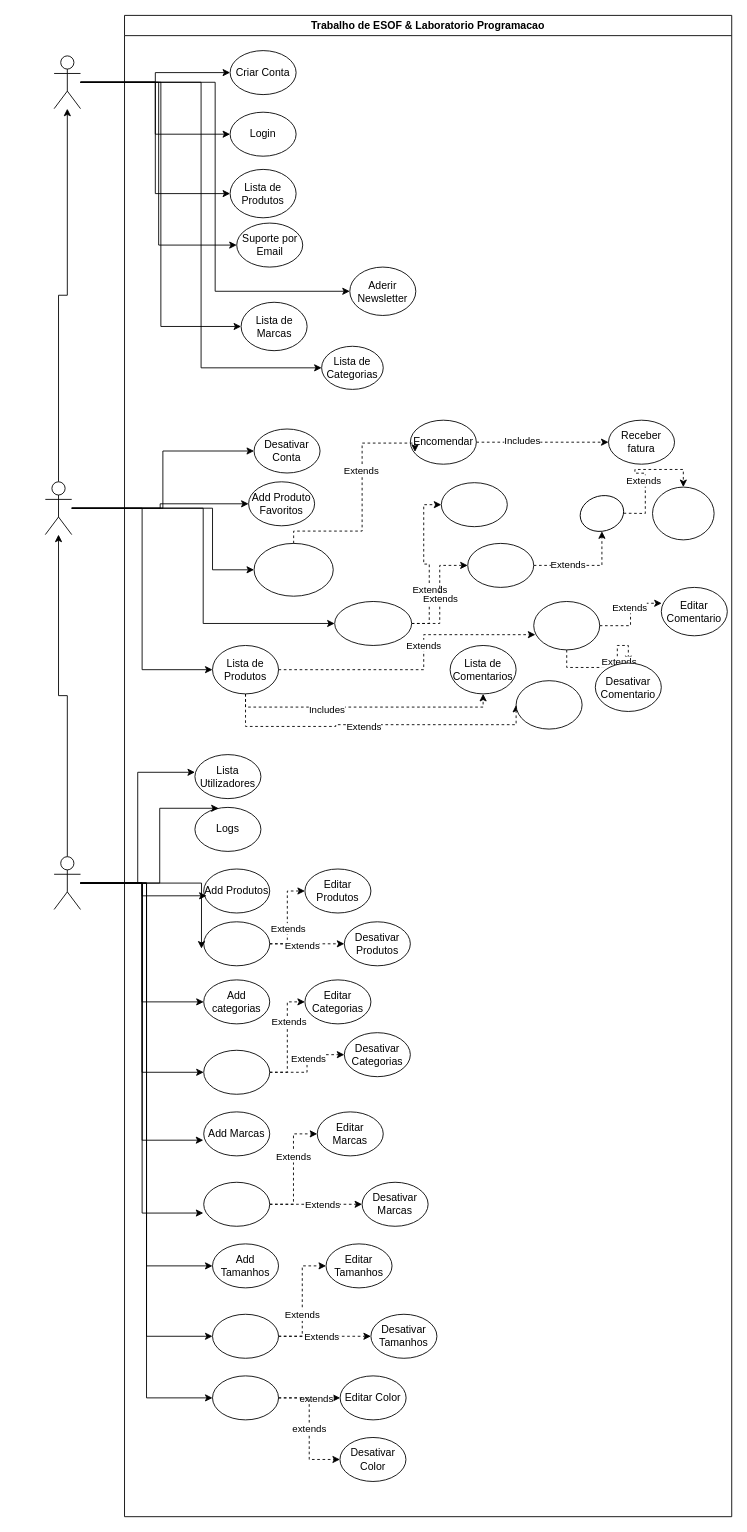
Some shapes in this 747 by 1532 pixel diagram are drawn without their labels. The centre of each missing label's shape, as x and y in pixels:
"Adicionar ao Carrinho" belongs at [548,704].
"Administrador" belongs at [67,882].
"Cancelar Encomenda" belongs at [473,504].
"Comentar" belongs at [566,625].
"Entregue" belongs at [601,513].
"Lista Categorias" belongs at [236,1071].
"Lista Colors" belongs at [245,1397].
"Lista Marcas" belongs at [236,1203].
"Lista Produtos" belongs at [236,943].
"Lista Tamanhos" belongs at [245,1335].
"Pedir Devolucao" belongs at [683,513].
"Utilizador Logado" belongs at [58,508].
"Utilizador Não Logado" belongs at [67,82].
"Ver Carrinho" belongs at [293,569].
"Ver Encomendas" belongs at [373,623].
"Ver estado encomenda" belongs at [500,565].
